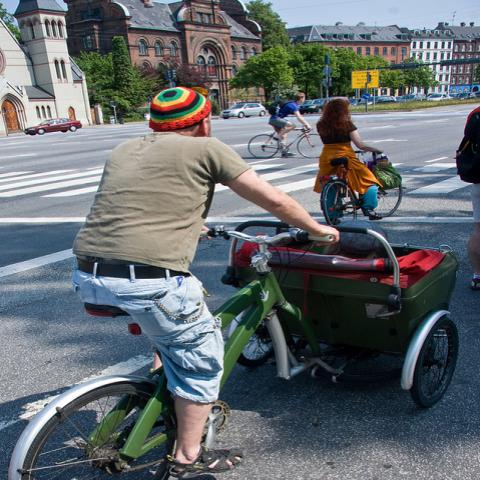car: (23, 117, 83, 136), (220, 103, 266, 119), (299, 98, 327, 114), (395, 94, 417, 102), (427, 93, 451, 100), (376, 95, 397, 103), (357, 96, 374, 105), (452, 93, 476, 99), (350, 99, 362, 105)
